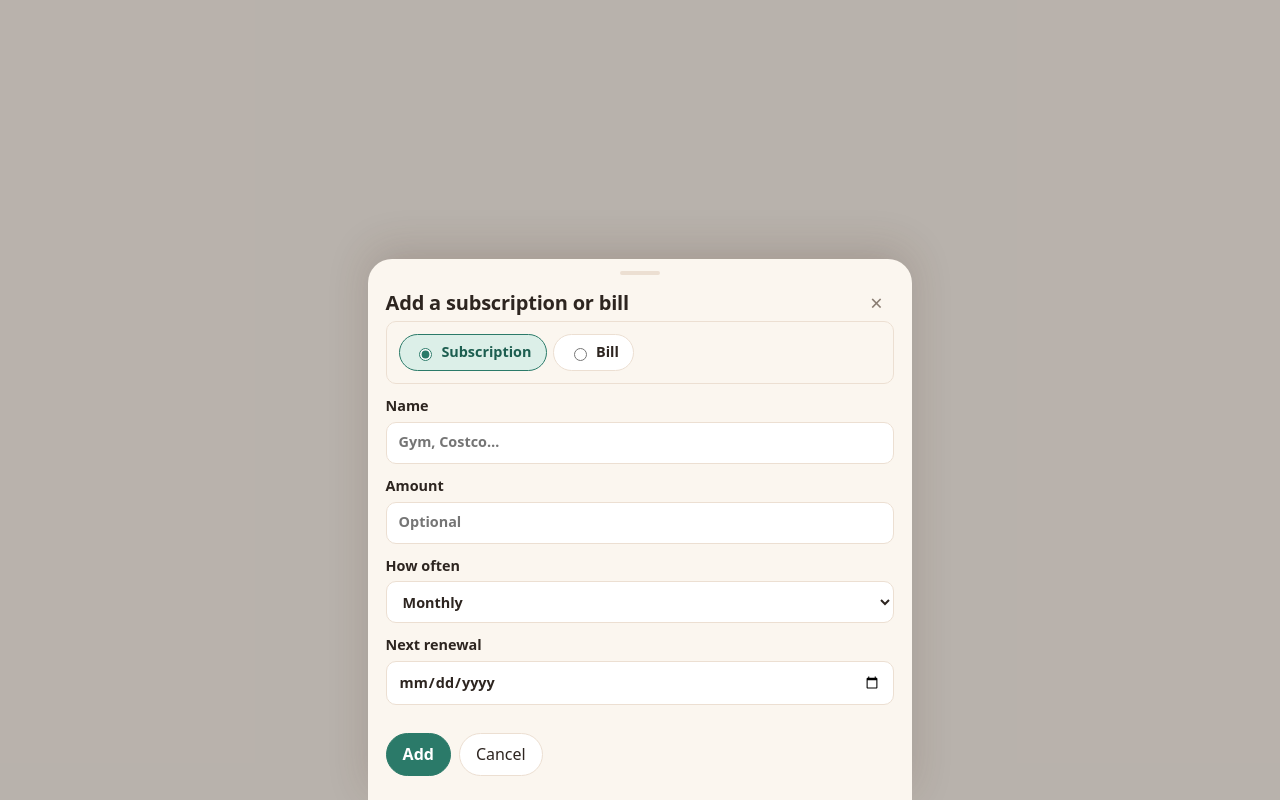
Test: AddSubscription › needs a name and a date, and a readable amount
Click the button "Add" at x=418, y=755, box 386,733 -> 451,776
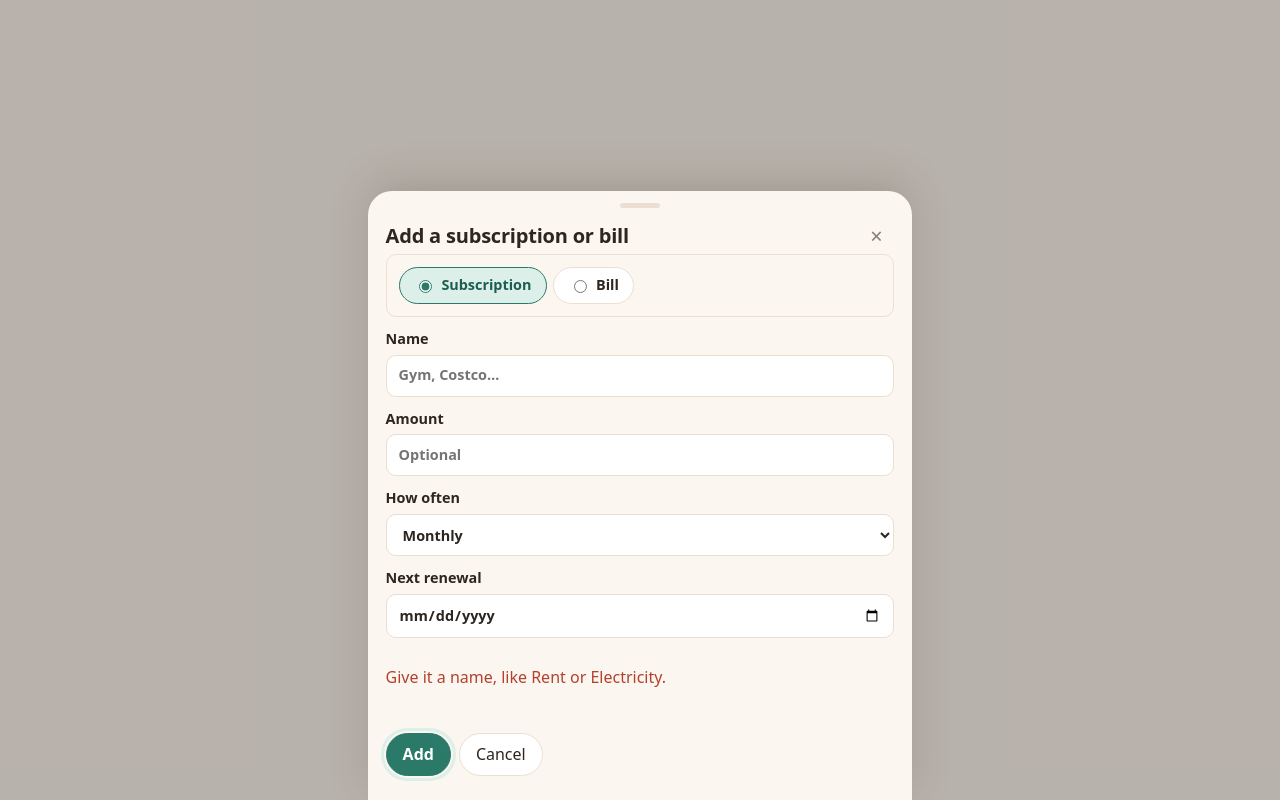
Expected: the message shows "name", 386,666 -> 666,688
Type "Rent" into the field labelled "Name" at x=640, y=376, box 386,355 -> 894,397
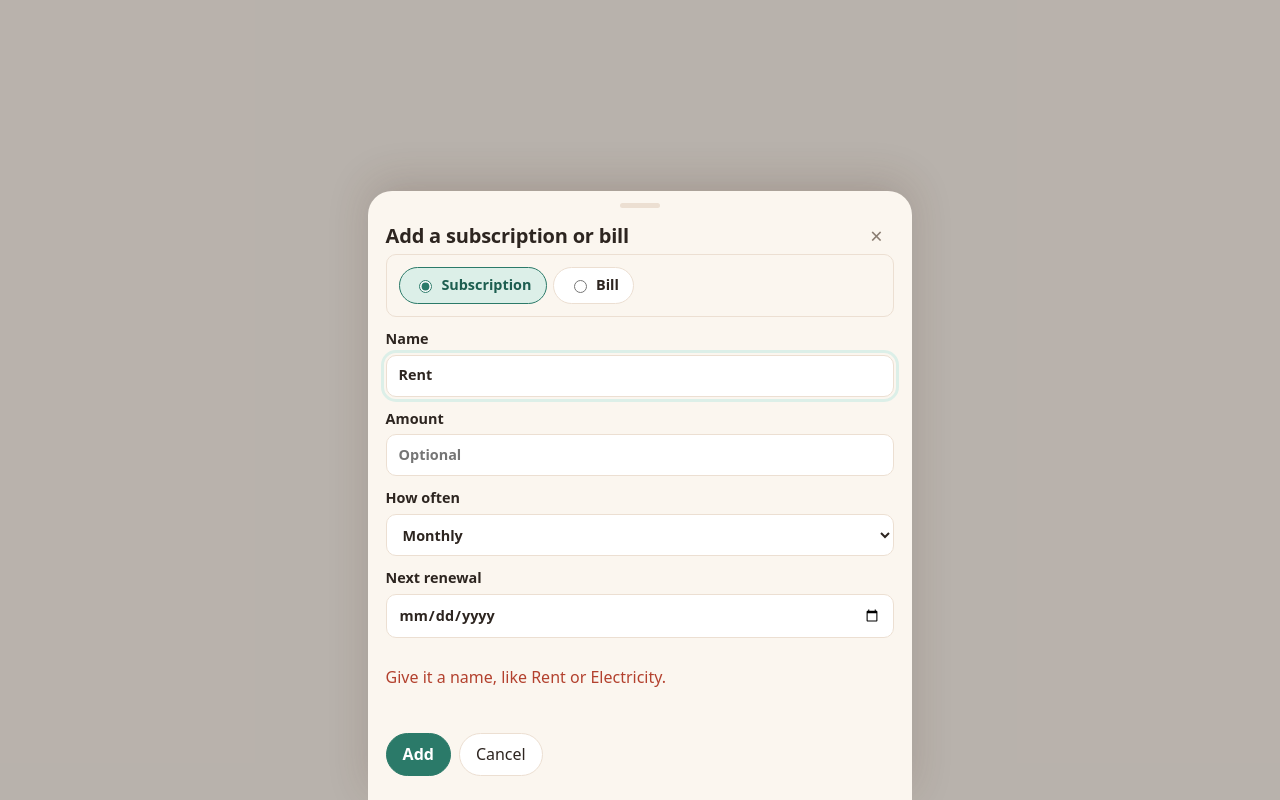
Type "lots" into the field labelled "Amount" at x=640, y=455, box 386,434 -> 894,476
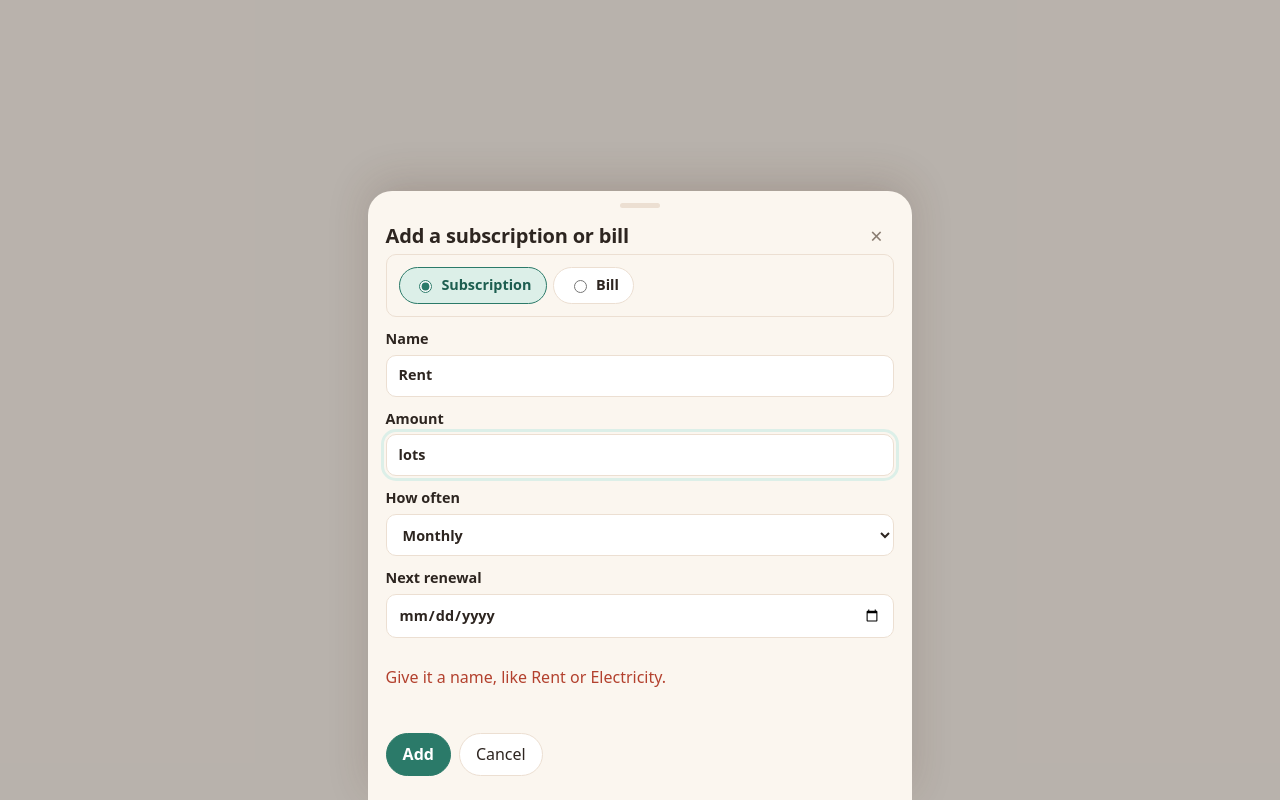
Type "2026-11-01" into the date field labelled "Next renewal" at x=640, y=616, box 386,594 -> 894,638
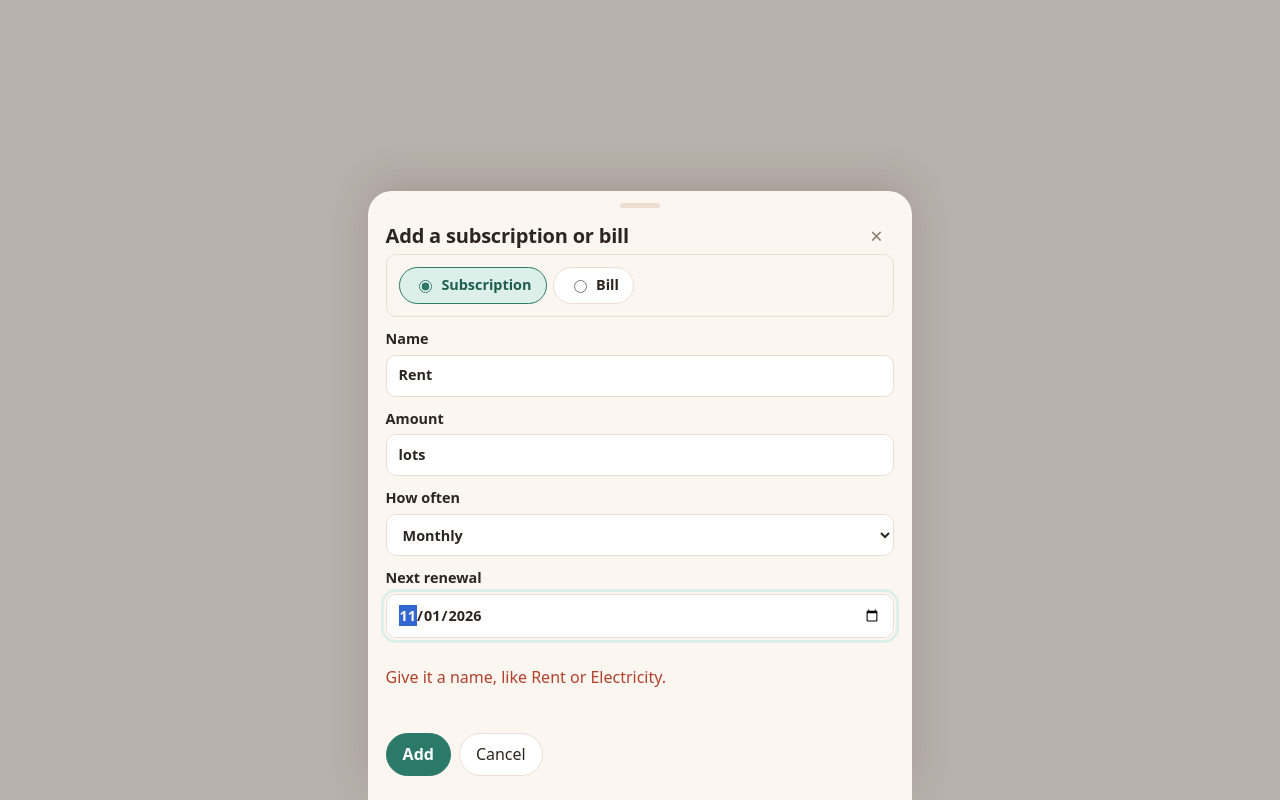
Click the button "Add" at x=418, y=755, box 386,733 -> 451,776
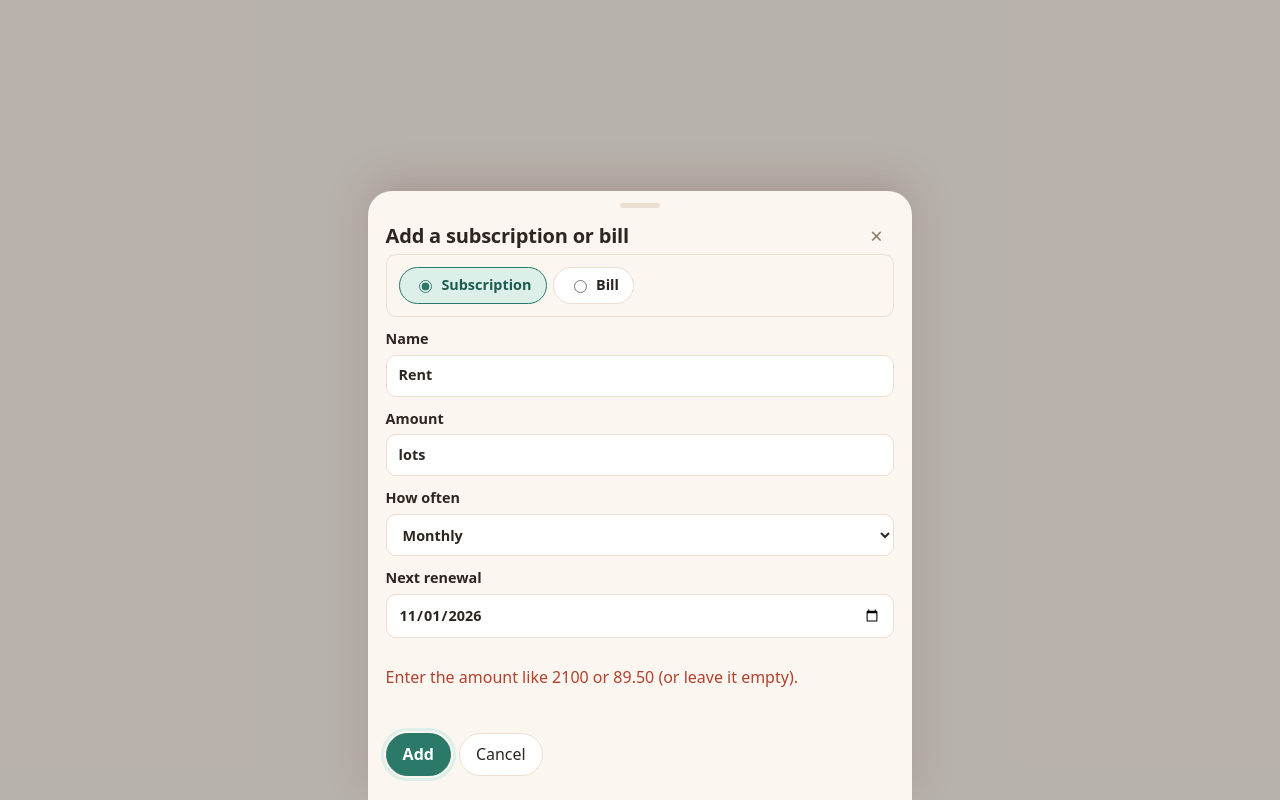
Expected: the message shows "amount", 386,666 -> 798,688
